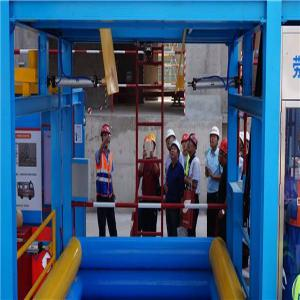red: (219, 139, 230, 167), (101, 124, 113, 148), (187, 134, 199, 157), (182, 133, 190, 154)
white: (209, 126, 221, 151), (171, 139, 182, 165), (166, 129, 176, 150)
